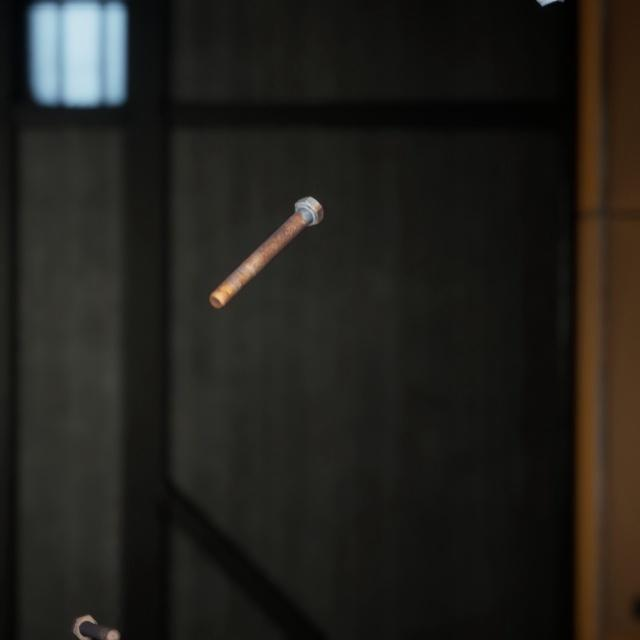bolt: (204, 175, 327, 295), (66, 586, 124, 623)
